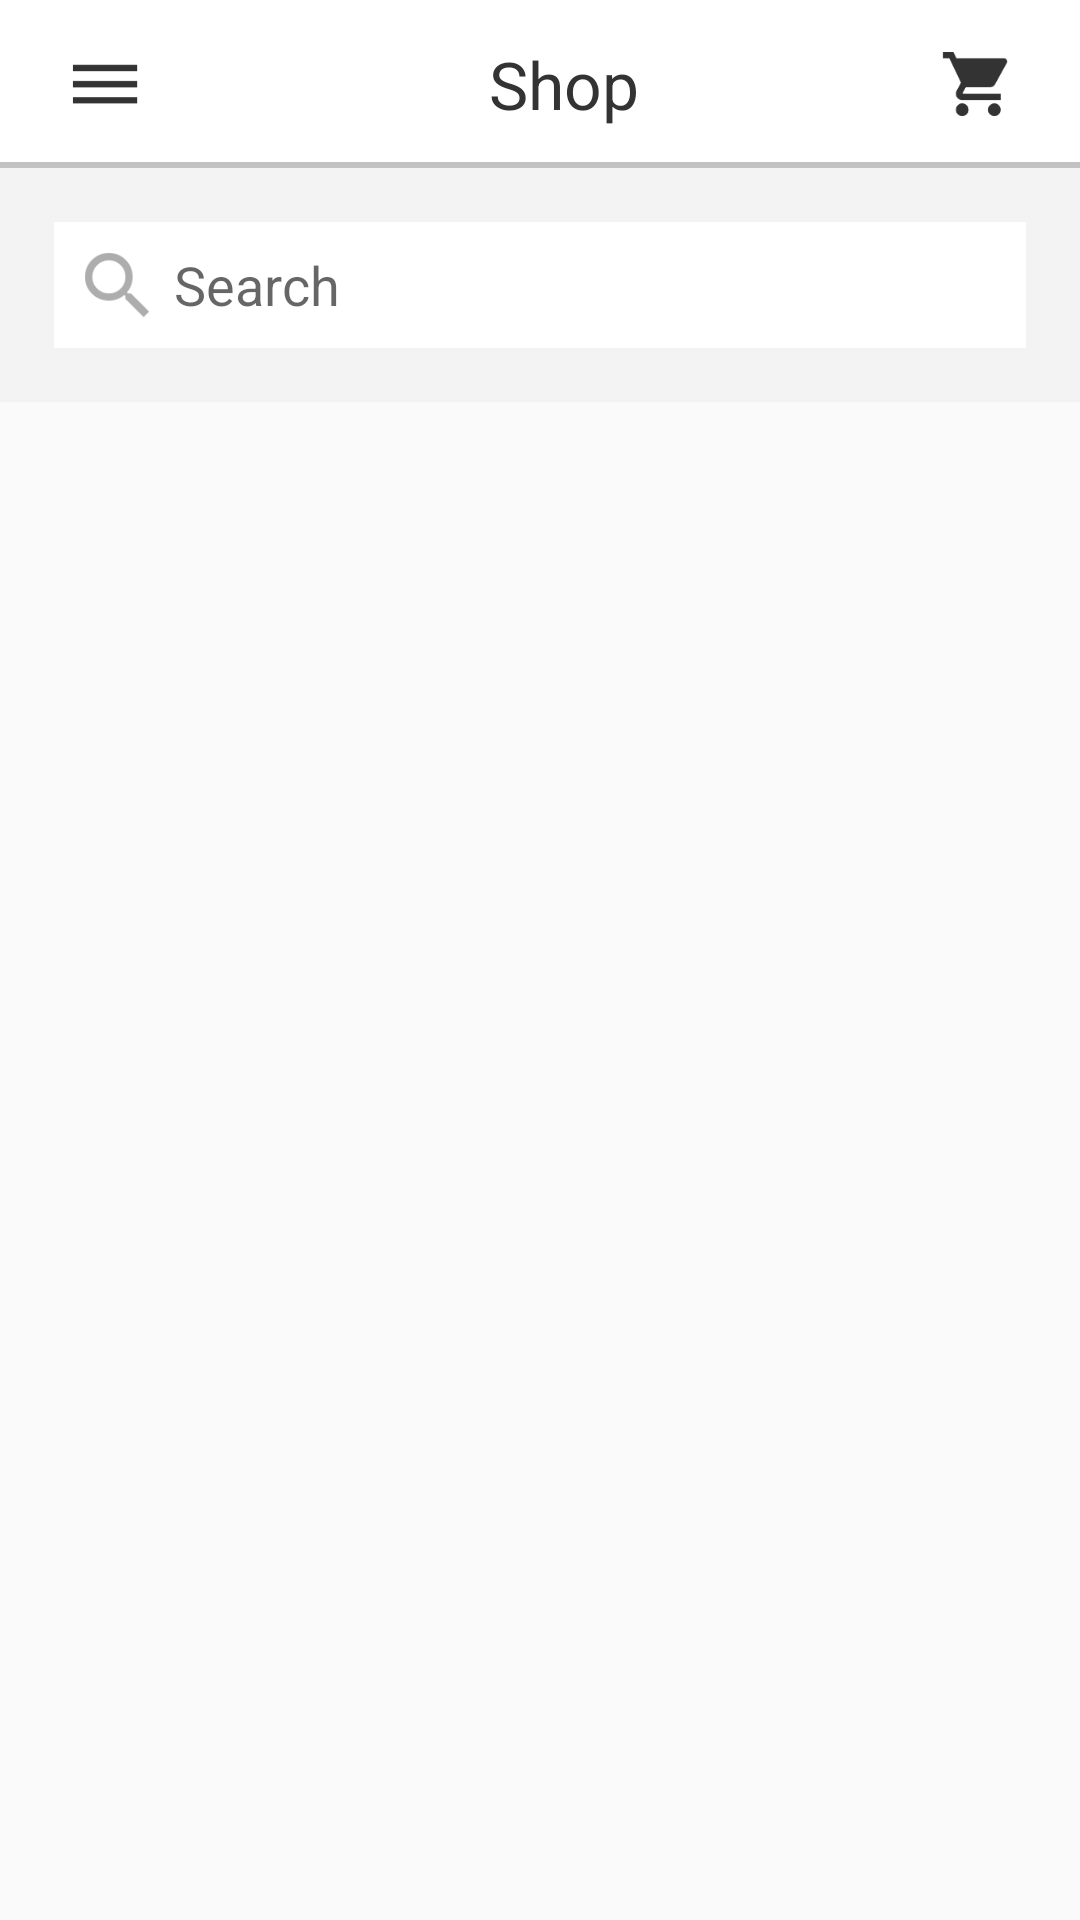

Screen size 1080 × 1920. Icon name, then its box in pixels as (x1, y1, x2, y2):
dehaze: (73, 64, 138, 104)
shopping cart: (943, 52, 1008, 116)
